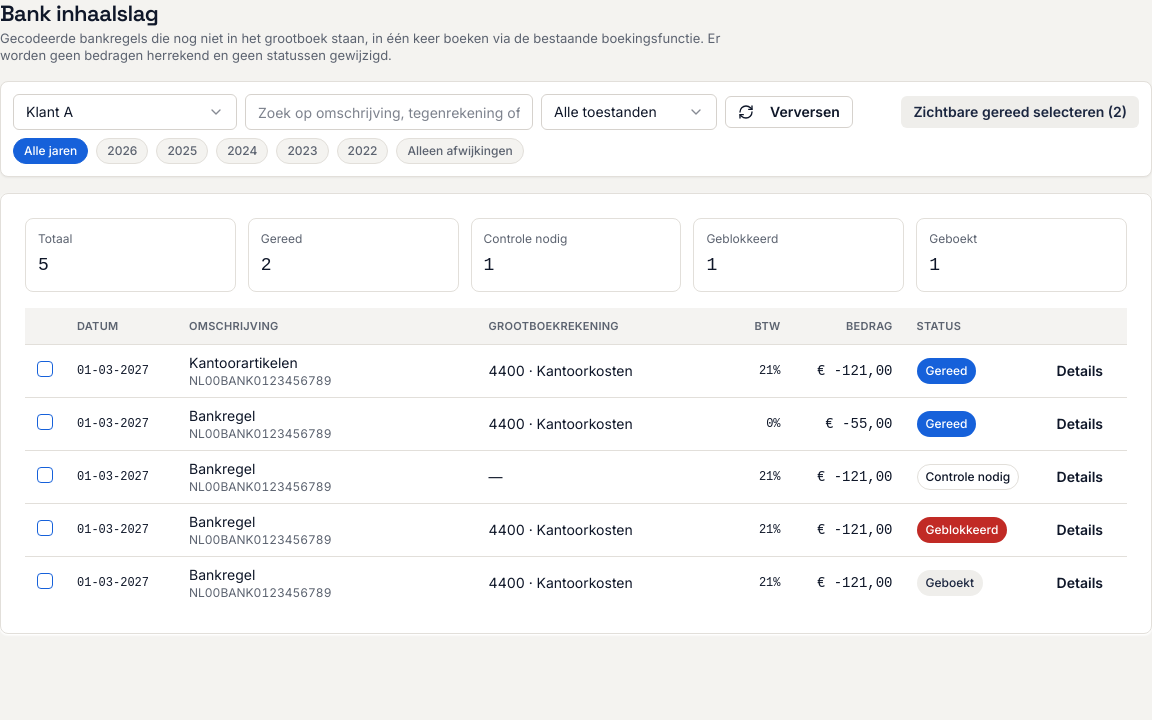
Test: selectie › 1. een gereed-regel kan worden geselecteerd
Step 1. Click the checkbox with test id "inhaalslag-checkbox" in the row of "Kantoorartikelen" → (45, 369), box [37, 361, 53, 377]
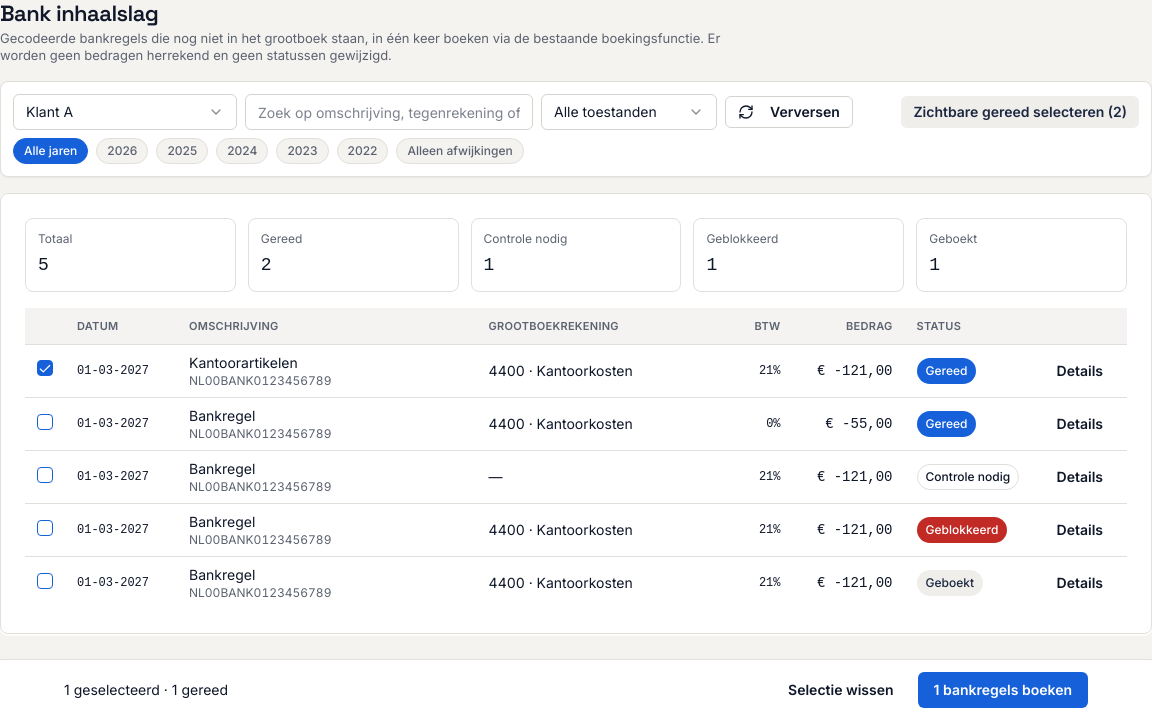
Expected: the text with test id "bulkbalk-geselecteerd" reads "1", [64, 681, 70, 698]
Expected: the text with test id "bulkbalk-gereed" reads "1", [172, 681, 178, 698]
Expected: the button with test id "inhaalslag-bulk" reads "1 bankregels boeken", [918, 672, 1088, 708]
